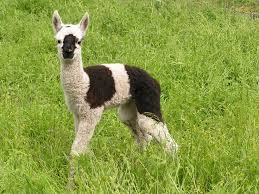alpaca: (51, 9, 179, 157)
